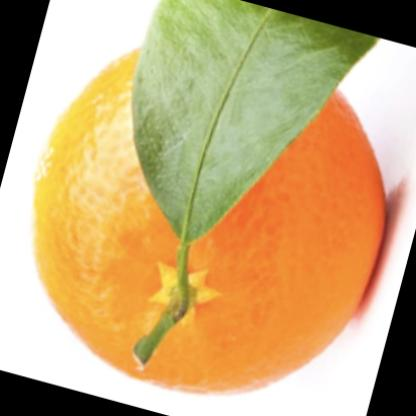fresh: (35, 33, 388, 391)
